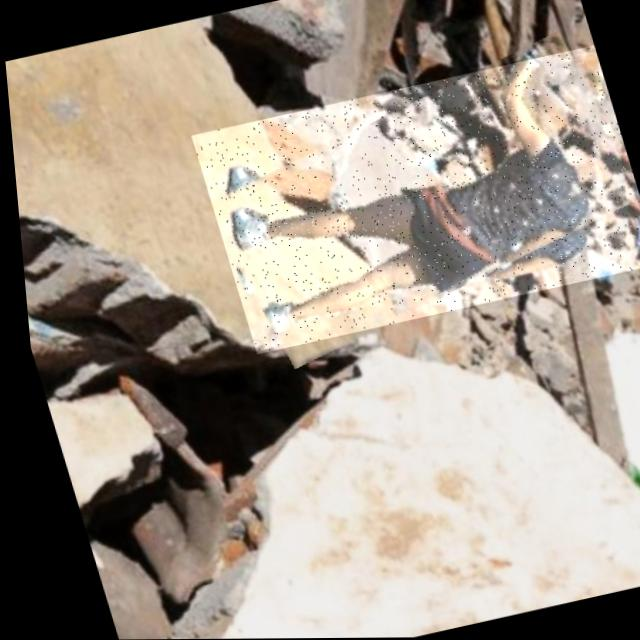Person in Rubble: (181, 45, 640, 355)
